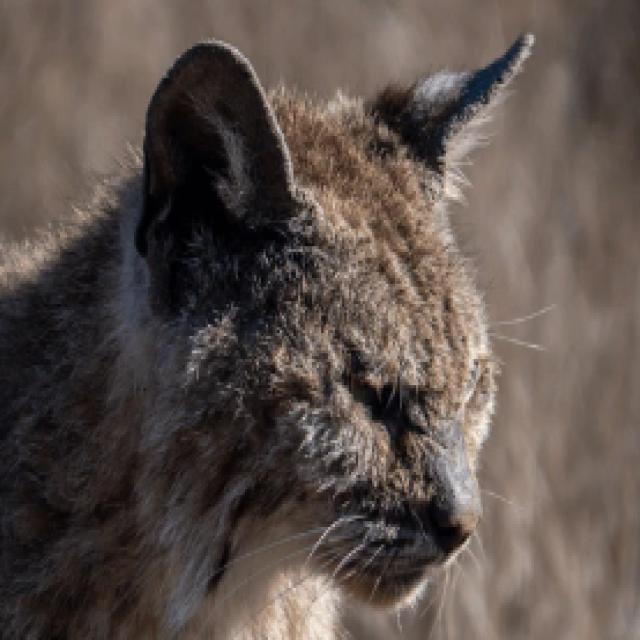Mange: (431, 430, 489, 509), (461, 354, 494, 397)
